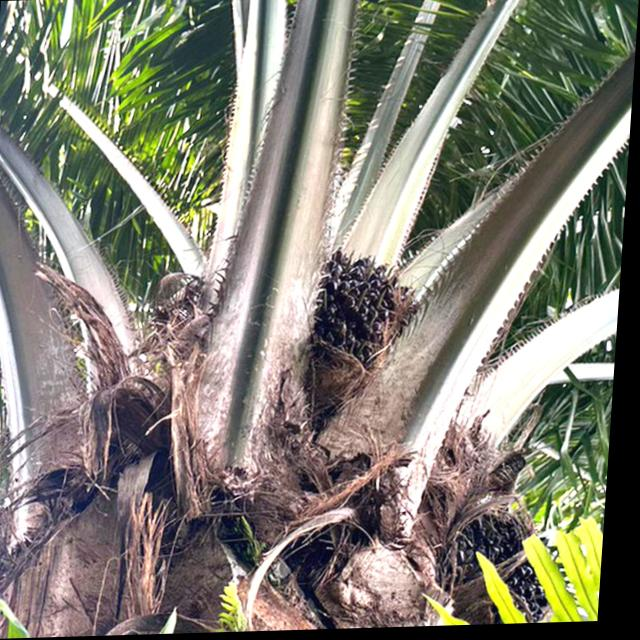unripe: (286, 240, 437, 405)
